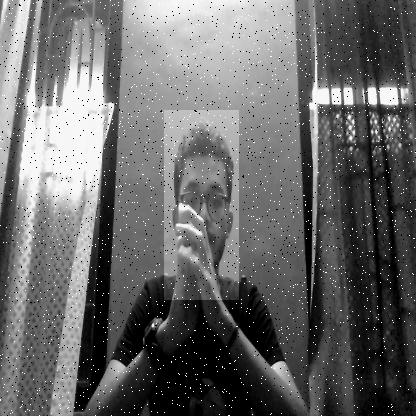Normal: (164, 110, 239, 300)
